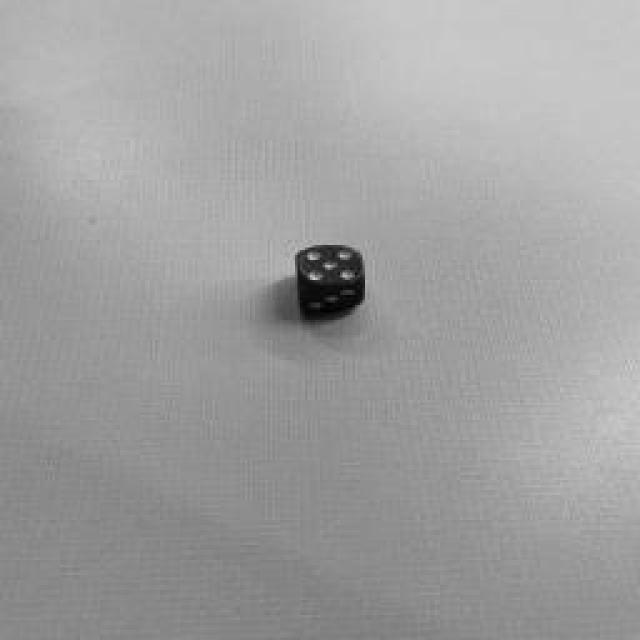dice_5: (297, 245, 365, 285)
